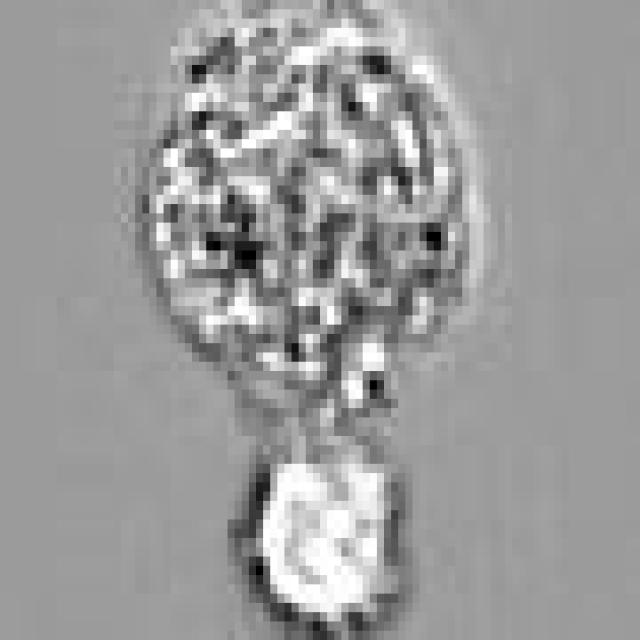Cancer Cell: (149, 10, 491, 418)
WBC: (249, 426, 405, 622)
